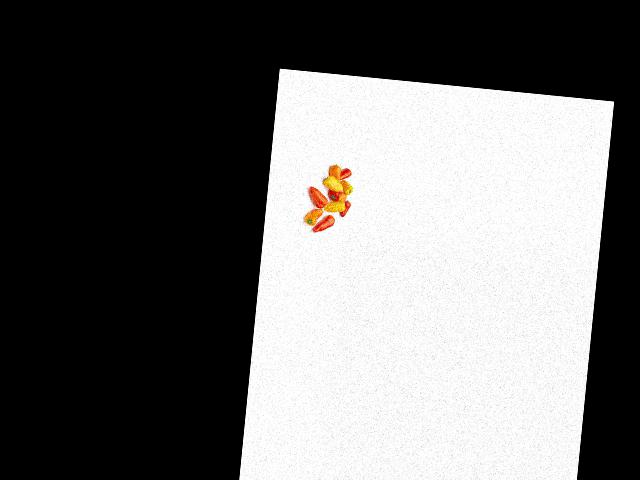bell_pepper: (340, 199, 352, 219)
